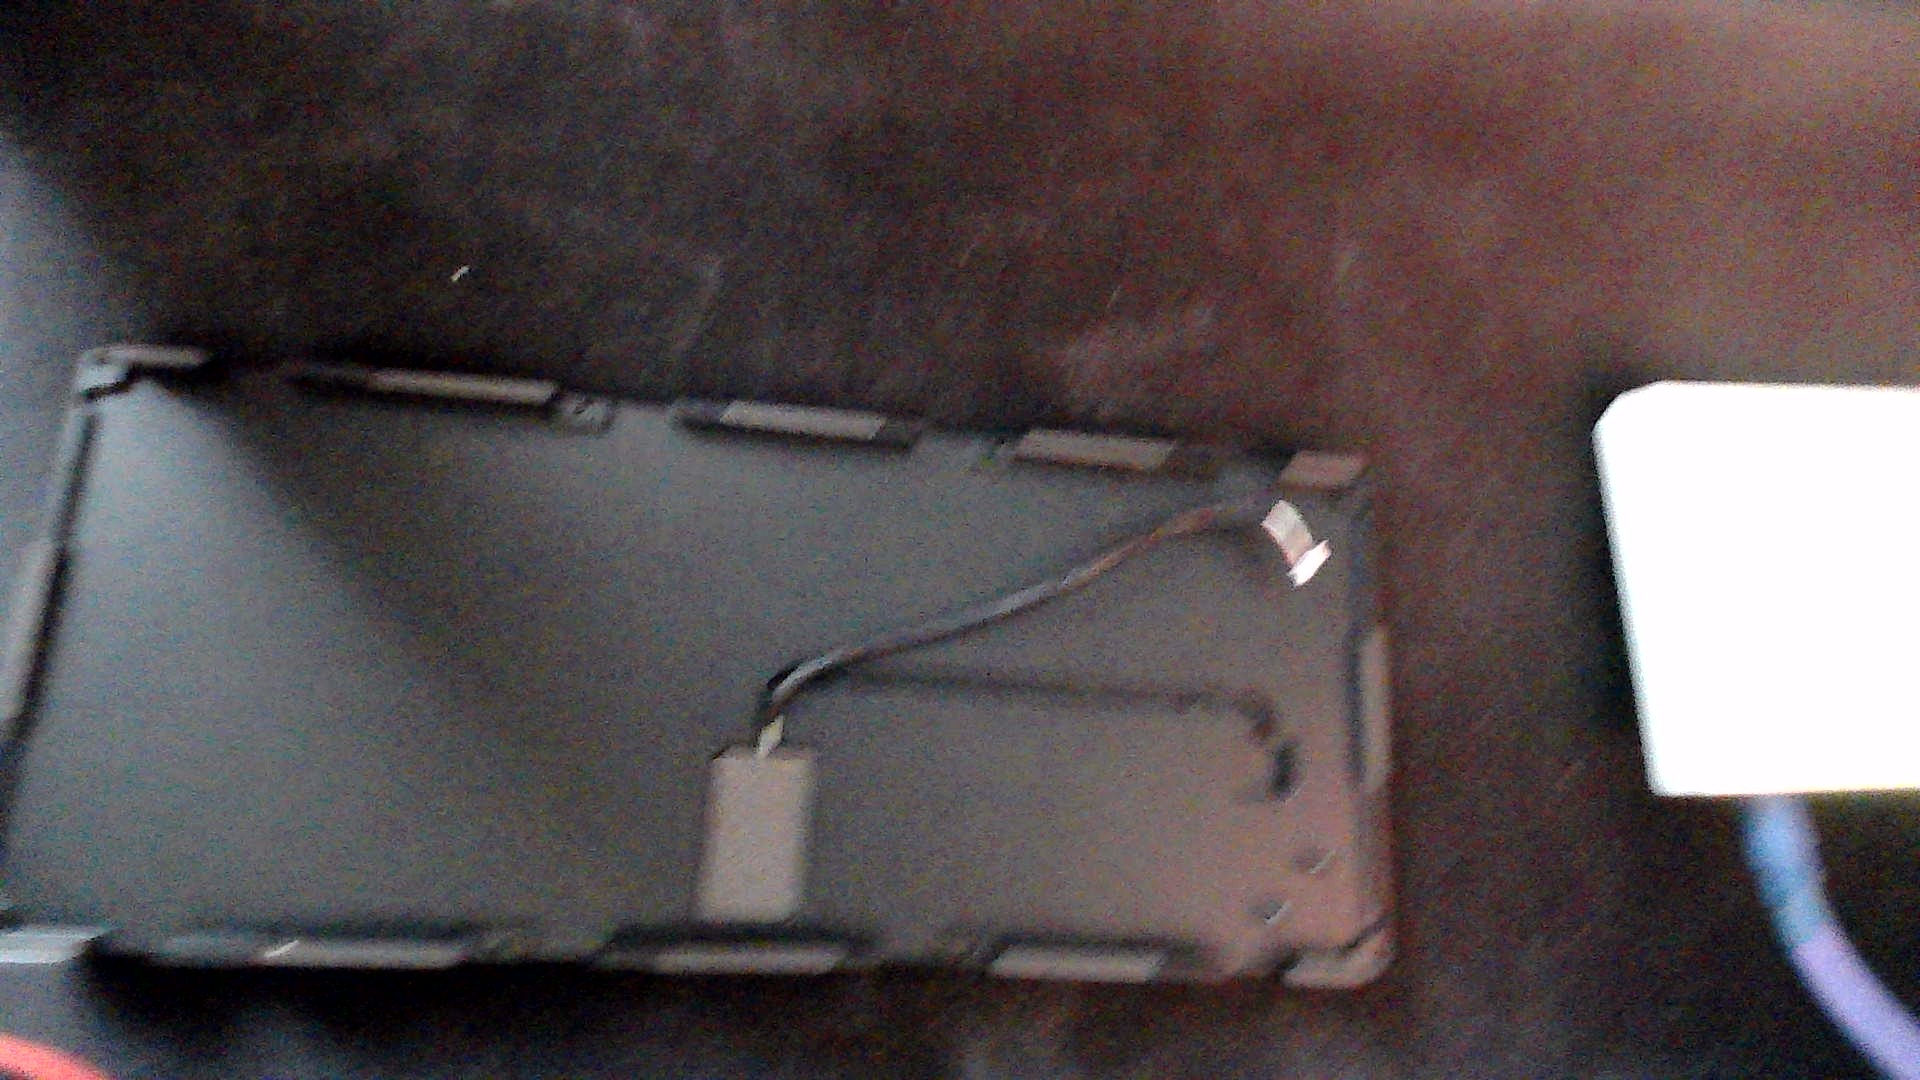case: (4, 303, 1422, 1031)
